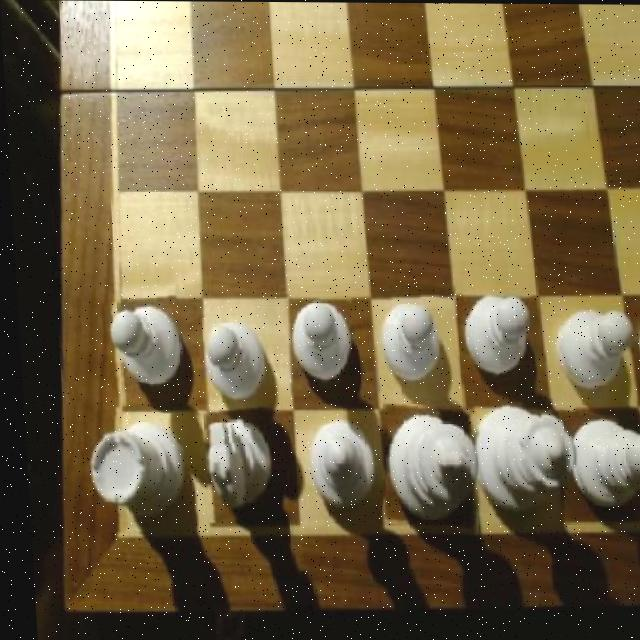black-rook: (291, 411, 373, 518), (562, 411, 640, 512)
white-bishop: (372, 402, 477, 533)
white-king: (187, 408, 272, 522)
white-knight: (99, 299, 185, 407), (543, 300, 632, 400), (449, 286, 530, 388), (367, 294, 441, 392), (280, 295, 350, 397), (193, 316, 265, 414)
white-pawn: (467, 395, 575, 519)
white-queen: (75, 414, 182, 534)
